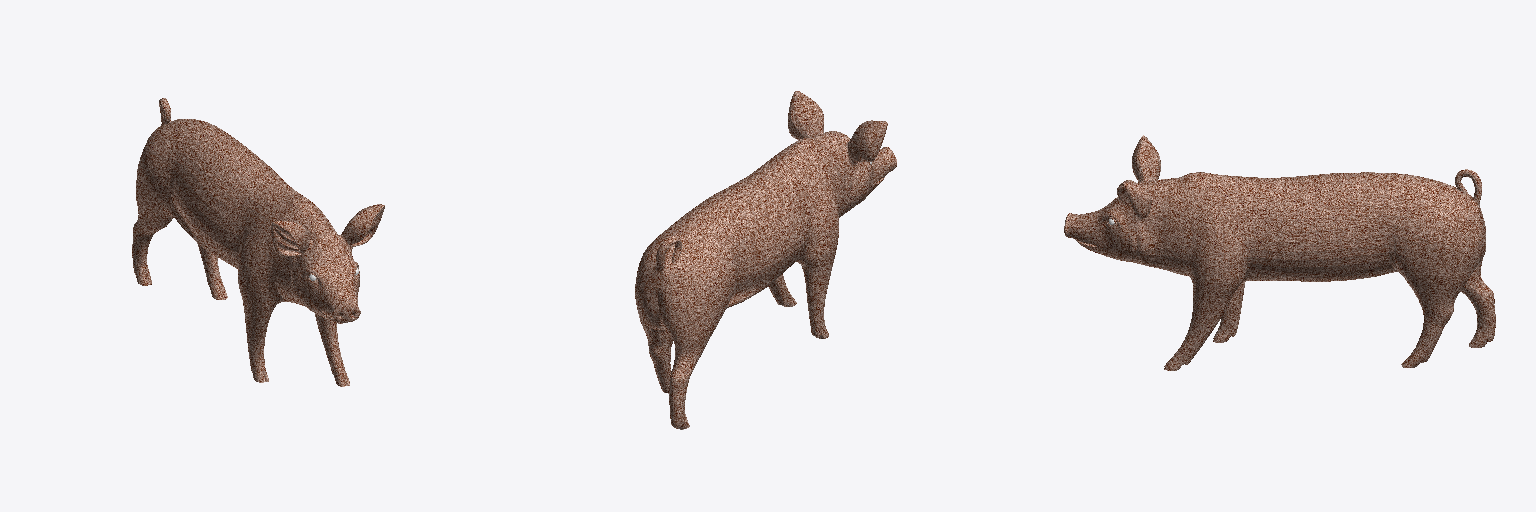
The picture shows the model from 3 angles: view 1: azimuth 30°, elevation 25°; view 2: azimuth 150°, elevation 25°; view 3: azimuth 270°, elevation 25°; orthographic projection.
Visible parts, largest first — view 1: possu-COM-Pig_Table-95443-Carpet_Loop_Pattern; view 2: possu-COM-Pig_Table-95443-Carpet_Loop_Pattern; view 3: possu-COM-Pig_Table-95443-Carpet_Loop_Pattern.
Boxes of the visible parts, x1=… form: possu-COM-Pig_Table-95443-Carpet_Loop_Pattern: x1=132, y1=98, x2=384, y2=386; possu-COM-Pig_Table-95443-Carpet_Loop_Pattern: x1=635, y1=91, x2=896, y2=429; possu-COM-Pig_Table-95443-Carpet_Loop_Pattern: x1=1064, y1=135, x2=1495, y2=370.
Bounding box in the file's own units: 0.3849 × 0.6834 × 1.39.
2 materials, 1 textured.